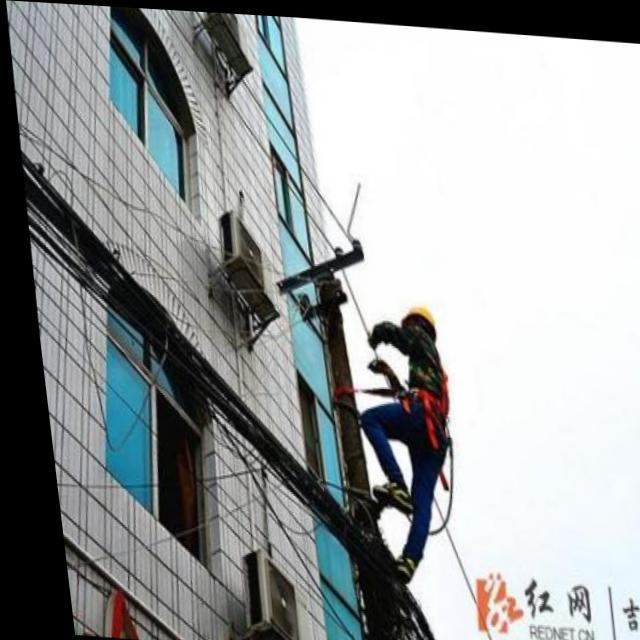belt: (384, 376, 461, 536)
